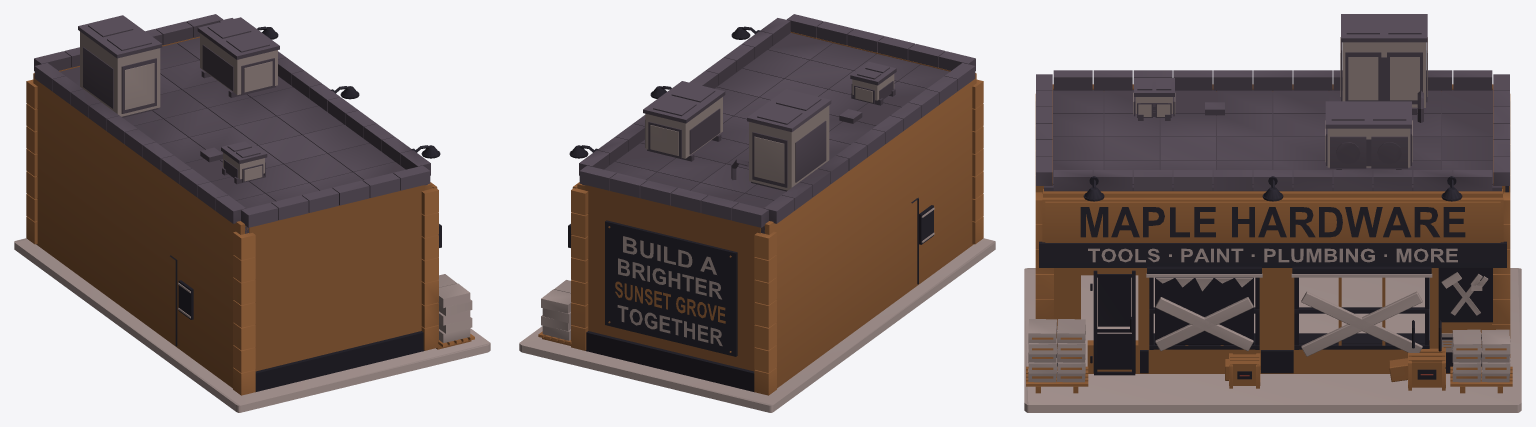
3 views of the same model, side by side, from view 1: azimuth 30°, elevation 25°; view 2: azimuth 150°, elevation 25°; view 3: azimuth 270°, elevation 25° (orthographic). The views are drawn at different scales.
Visible parts, largest first — view 1: root_pal_woodWarm, roof_pal_asphalt, root_pal_sidewalk, roof_pal_sidewalk, root_pal_uiDark; view 2: root_pal_woodWarm, roof_pal_asphalt, root_pal_uiDark, root_pal_sidewalk, roof_pal_sidewalk; view 3: roof_pal_asphalt, root_pal_sidewalk, root_pal_woodWarm, root_pal_uiDark, roof_pal_sidewalk, door_front_pal_uiDark.
Boxes of the visible parts, x1,y1,x2,y2 form: root_pal_woodWarm: [26, 36, 474, 395]; roof_pal_asphalt: [34, 14, 430, 233]; root_pal_sidewalk: [14, 238, 490, 412]; roof_pal_sidewalk: [80, 31, 277, 181]; root_pal_uiDark: [170, 26, 441, 391]; root_pal_woodWarm: [538, 32, 983, 395]; roof_pal_asphalt: [579, 14, 975, 233]; root_pal_uiDark: [568, 26, 933, 391]; root_pal_sidewalk: [519, 207, 995, 412]; roof_pal_sidewalk: [645, 74, 894, 190]; roof_pal_asphalt: [1036, 14, 1509, 191]; root_pal_sidewalk: [1024, 248, 1521, 412]; root_pal_woodWarm: [1026, 84, 1512, 393]; root_pal_uiDark: [1039, 176, 1508, 379]; roof_pal_sidewalk: [1133, 37, 1427, 167]; door_front_pal_uiDark: [1090, 270, 1135, 375].
Bounding box in the file's own units: 7.43 × 6.96 × 11.4.
